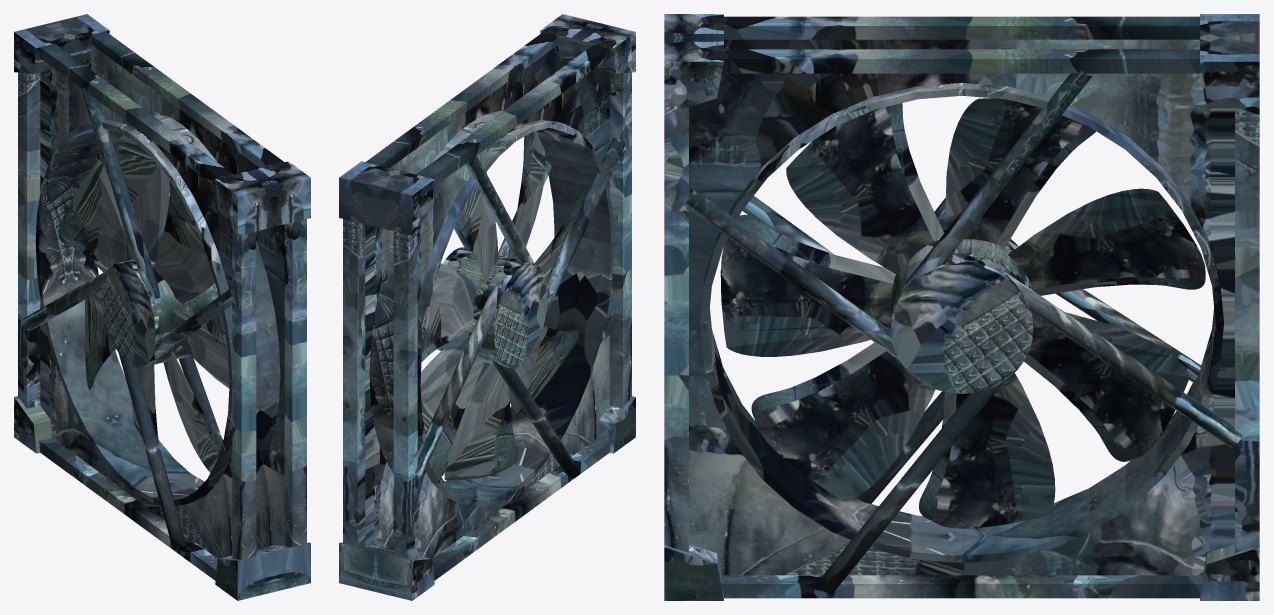
File: futuristic_room_3.obj
The picture shows the model from 3 angles, left to right: view 1: azimuth 30°, elevation 25°; view 2: azimuth 150°, elevation 25°; view 3: azimuth 270°, elevation 25°; orthographic projection. The views are drawn at different scales.
Size of the model in its own units: 0.1862 by 0.8991 by 0.8991.
